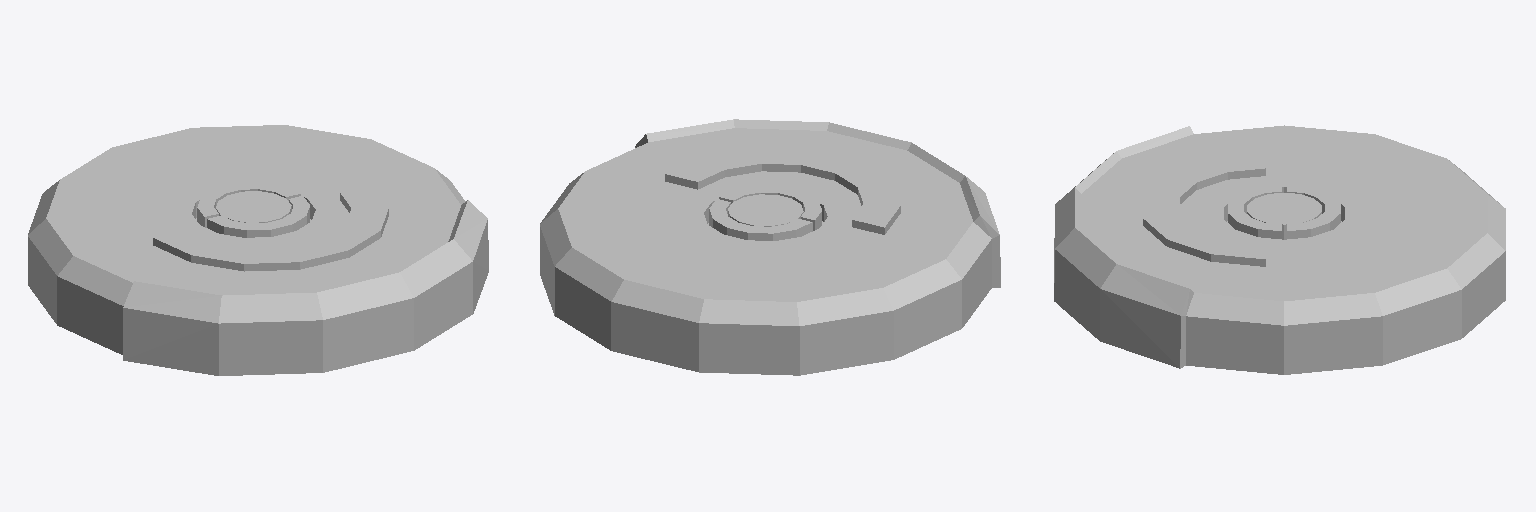
The model's file is Domestic Robot.obj.
3 views of the same model, side by side, from view 1: azimuth 30°, elevation 25°; view 2: azimuth 150°, elevation 25°; view 3: azimuth 270°, elevation 25° (orthographic).
Parts seen in each view (by area): view 1: Domestic_robot; view 2: Domestic_robot; view 3: Domestic_robot.
Boxes of the visible parts, x1=… form: Domestic_robot: x1=28, y1=125, x2=488, y2=375; Domestic_robot: x1=540, y1=119, x2=1000, y2=375; Domestic_robot: x1=1054, y1=125, x2=1505, y2=374.
Bounding box in the file's own units: 620 × 151 × 617.